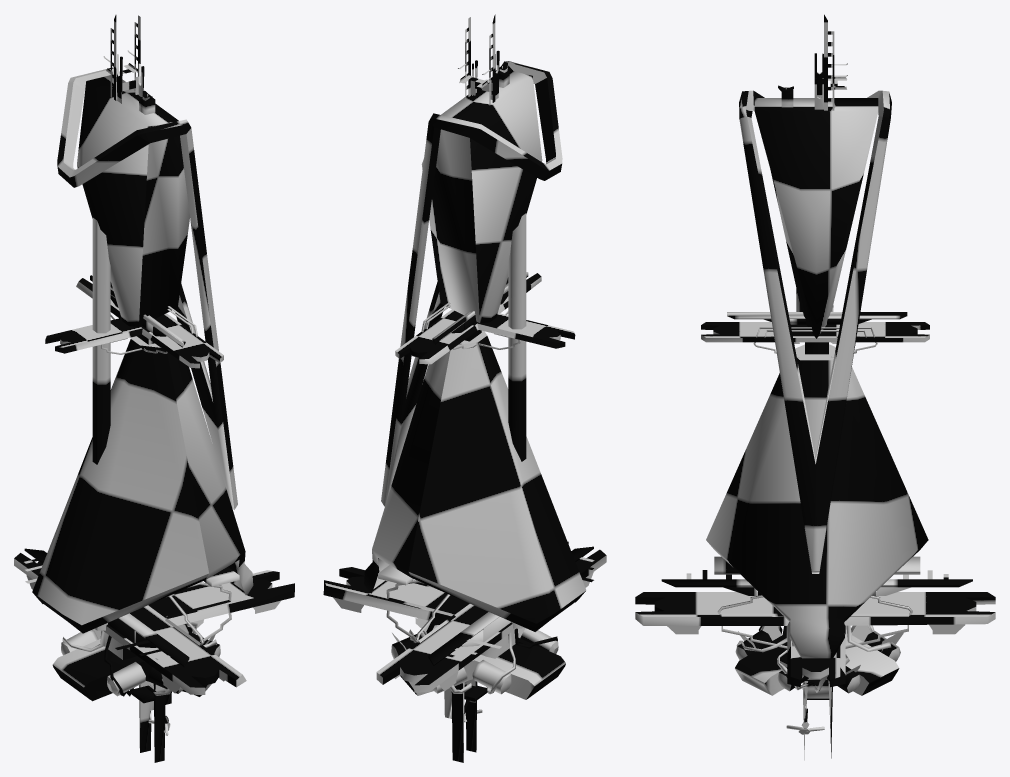
Rendered from building-hq-vru.obj.
3 renders of one model, left to right at view 1: azimuth 30°, elevation 25°; view 2: azimuth 150°, elevation 25°; view 3: azimuth 270°, elevation 25°, orthographic. The views are drawn at different scales.
Visible parts, largest first — view 1: building_vru_hq; view 2: building_vru_hq; view 3: building_vru_hq.
Boxes of the visible parts, x1,y1,x2,y2 form: building_vru_hq: (14, 15, 294, 762); building_vru_hq: (323, 14, 606, 762); building_vru_hq: (635, 14, 995, 760).
Bounding box in the file's own units: 304 × 909 × 406.
1 material, 1 textured.
